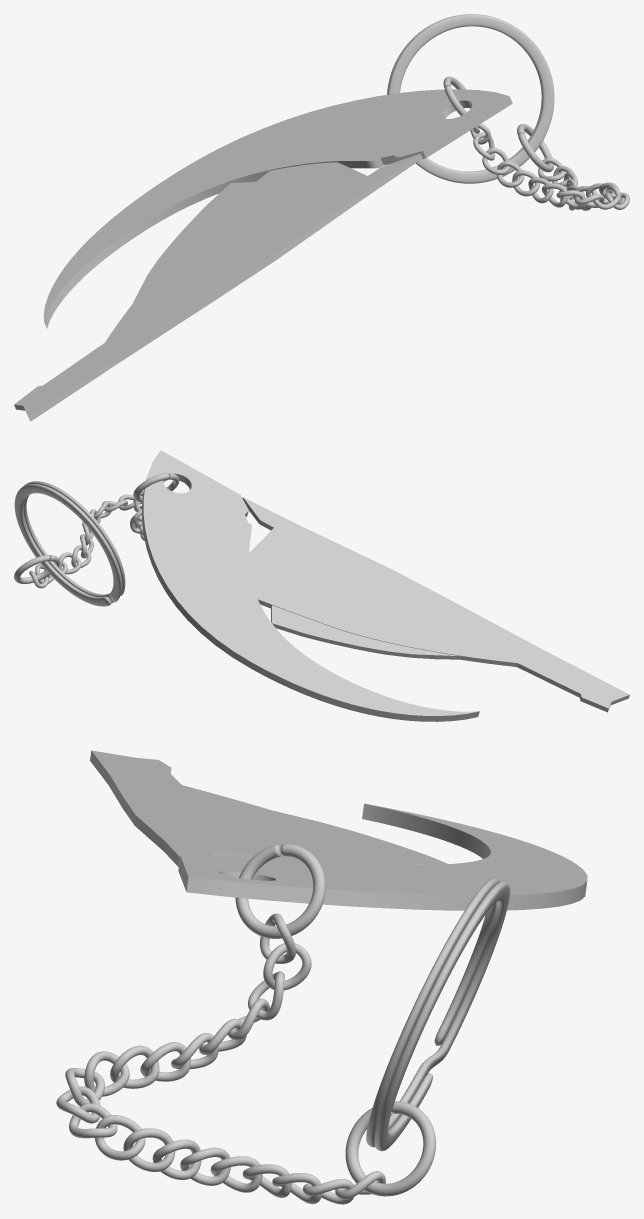
File: calatravaBottleOpener5.glb
3 renders of one model, top to bottom at view 1: azimuth 30°, elevation 25°; view 2: azimuth 150°, elevation 25°; view 3: azimuth 270°, elevation 25°, orthographic. The views are drawn at different scales.
Parts seen in each view (by area): view 1: calatravaBottleOpener; view 2: calatravaBottleOpener; view 3: calatravaBottleOpener.
Part boxes in pixels (box(x1,y1,x2,y2)): calatravaBottleOpener: box(14, 14, 629, 421); calatravaBottleOpener: box(14, 450, 629, 721); calatravaBottleOpener: box(56, 750, 587, 1204).
Bounding box in the file's own units: 68.62 × 20.84 × 29.47.
1 material, 1 textured.
